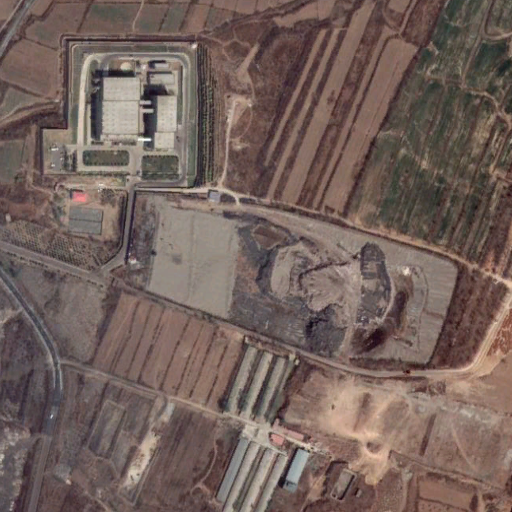lf: (109, 193, 459, 367)
